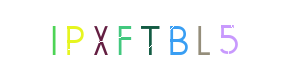5: (146, 0, 226, 80)
B: (125, 0, 205, 80)
F: (105, 0, 185, 80)
I: (33, 0, 113, 80)
L: (138, 0, 218, 80)
P: (60, 0, 140, 80)
T: (110, 0, 190, 80)
X: (61, 0, 141, 80)
